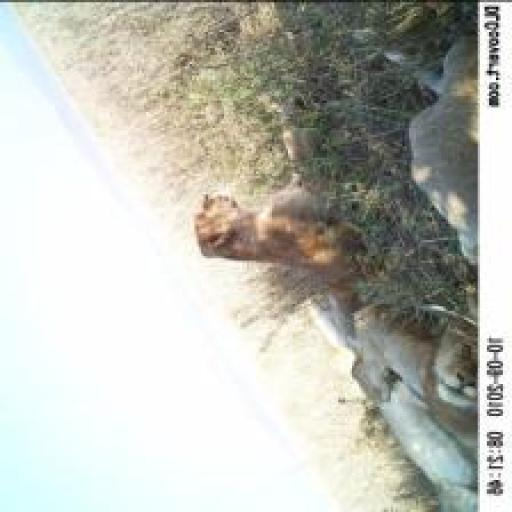lion: (174, 101, 391, 393)
